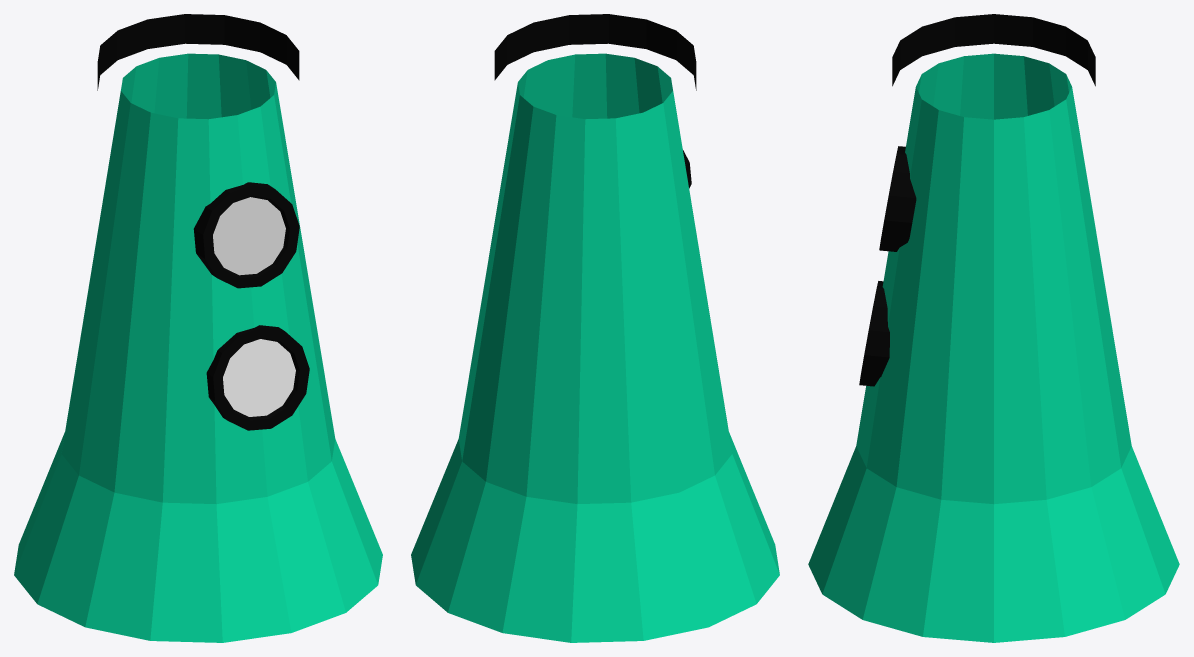
Rendered from nauMig.fbx.
3 renders of one model, left to right at view 1: azimuth 30°, elevation 25°; view 2: azimuth 150°, elevation 25°; view 3: azimuth 270°, elevation 25°, orthographic.
Parts seen in each view (by area): view 1: PartMig, Cylinder.003, Cylinder.004; view 2: PartMig; view 3: PartMig, Cylinder.003, Cylinder.004.
Boxes of the visible parts, x1=… form: PartMig: x1=14, y1=14, x2=382, y2=642; Cylinder.003: x1=193, y1=182, x2=299, y2=288; Cylinder.004: x1=206, y1=325, x2=309, y2=430; PartMig: x1=411, y1=14, x2=779, y2=642; PartMig: x1=808, y1=14, x2=1179, y2=642; Cylinder.003: x1=879, y1=146, x2=916, y2=251; Cylinder.004: x1=859, y1=281, x2=889, y2=386.
Bounding box in the file's own units: 178 × 268 × 178.
